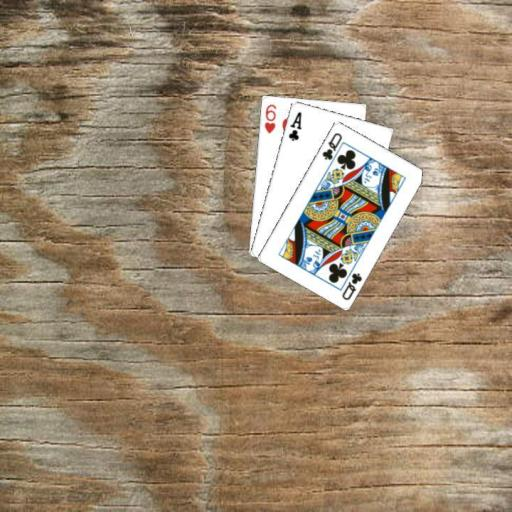6H: (261, 101, 277, 134)
AC: (285, 108, 303, 142)
QC: (319, 130, 344, 162), (339, 270, 364, 302)
